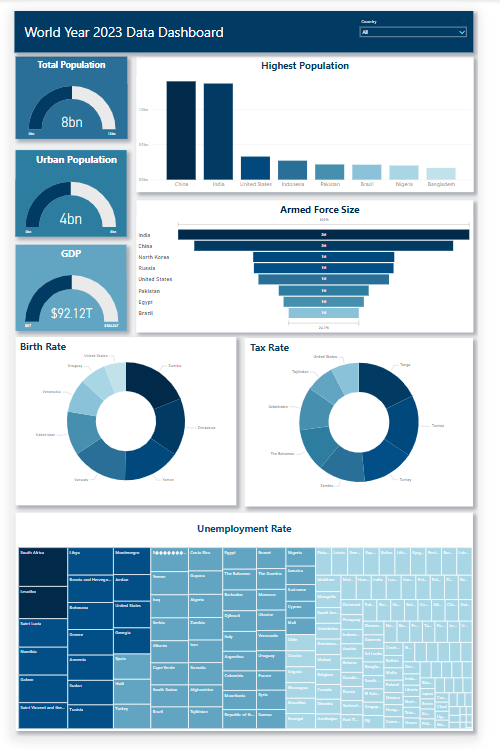

What the dashboard file says about the page in this screenshot:
{"tool":"powerbi","page":{"name":"Page 1","canvas":[1280,2000],"ordinal":0},"visuals":[{"type":"textbox","box":[342.9,125.7,924.3,371.4],"z":0},{"type":"pieChart","fields":{"Category":["world-data-2023.Country"],"Y":["Sum(world-data-2023.Birth Rate)"]},"box":[11.4,895.9,605,461],"z":0,"group":"g6"},{"type":"textbox","box":[11.4,1375,1253.6,598.6],"z":0,"group":"g8"},{"type":"donutChart","fields":{"Category":["world-data-2023.Country"],"Y":["Max(world-data-2023.Tax revenue (%))"]},"box":[640,895.7,625.7,461.4],"z":500,"group":"g7"},{"type":"shape","box":[10,0,1258,114],"z":1000,"group":"g5"},{"type":"clusteredColumnChart","fields":{"Y":["Sum(world-data-2023.Population)"],"Category":["world-data-2023.Country"]},"box":[342.9,178.6,922.9,318.6],"z":1000},{"type":"textbox","box":[342.5,517.5,923.8,360.5],"z":1000,"group":"g1"},{"type":"textbox","box":[11.2,126.2,306.2,225],"z":2000,"group":"g4"},{"type":"group","id":"g1","title":"Group 1","box":[342.5,517.5,923.8,361.2],"z":2000},{"type":"funnel","fields":{"Category":["world-data-2023.Country"],"Y":["Max(world-data-2023.Armed Forces size)"]},"box":[343.5,557.2,922.6,321.5],"z":2000,"group":"g1"},{"type":"treemap","fields":{"Group":["world-data-2023.Country"],"Values":["Sum(world-data-2023.Unemployment rate)"]},"box":[13.3,1466.7,1253.3,506.7],"z":2000,"group":"g8"},{"type":"group","id":"g2","title":"Group 2","box":[11.4,380.7,303.6,235.7],"z":3000},{"type":"textbox","box":[11.4,380.7,304.1,236.5],"z":3000,"group":"g2"},{"type":"group","id":"g3","title":"Group 3","box":[11.4,640.7,304.3,236.4],"z":4000},{"type":"textbox","box":[11.4,640.7,303.8,236.2],"z":4000,"group":"g3"},{"type":"group","id":"g4","title":"Group 4","box":[11.2,126.2,306.2,225],"z":5000},{"type":"group","id":"g5","title":"Group 5","box":[10,0,1258,114],"z":6000},{"type":"slicer","fields":{"Values":["world-data-2023.Country"]},"box":[949,15,311.9,83.2],"z":6000,"group":"g5"},{"type":"group","id":"g6","title":"Group 6","box":[11.4,497.9,1252,859],"z":7000},{"type":"textbox","title":"World Year 2023 Data Dashboard","box":[32.8,31.1,565.1,49.9],"z":8000,"group":"g5"},{"type":"group","id":"g7","title":"Group 7","box":[640,895.7,625.7,461.4],"z":8000},{"type":"gauge","fields":{"Y":["Sum(world-data-2023.Population)"]},"box":[13.6,201.4,303.3,149.8],"z":9000,"group":"g4"},{"type":"group","id":"g8","title":"Group 8","box":[11.4,1375,1255.2,598.6],"z":9000},{"type":"gauge","fields":{"Y":["Sum(world-data-2023.Urban_population)"]},"box":[12.9,460.7,302.5,155],"z":10000,"group":"g2"},{"type":"textbox","box":[602.4,497.9,661,398],"z":10001,"group":"g6"},{"type":"gauge","fields":{"Y":["Sum(world-data-2023.GDP)"]},"box":[13.8,718.7,301.2,158.3],"z":11000,"group":"g3"},{"type":"textbox","box":[17.4,895.6,152.9,48.6],"z":11500,"group":"g6"},{"type":"textbox","box":[650,895.7,132.9,54.3],"z":12001,"group":"g7"}]}

Visuals, with their boxes in screenshot pixels (x1, y1, x2, y2):
textbox: BBox(135, 54, 476, 192)
pieChart - world-data-2023.Country x Sum(world-data-2023.Birth Rate): BBox(12, 339, 236, 510)
textbox: BBox(12, 516, 476, 738)
donutChart - world-data-2023.Country x Max(world-data-2023.Tax revenue (%)): BBox(244, 339, 476, 510)
shape: BBox(12, 8, 477, 50)
clusteredColumnChart - Sum(world-data-2023.Population) x world-data-2023.Country: BBox(135, 74, 476, 192)
textbox: BBox(134, 199, 476, 333)
textbox: BBox(12, 54, 125, 138)
"Group 1" group: BBox(134, 199, 476, 333)
funnel - world-data-2023.Country x Max(world-data-2023.Armed Forces size): BBox(135, 214, 476, 333)
treemap - world-data-2023.Country x Sum(world-data-2023.Unemployment rate): BBox(13, 550, 476, 738)
"Group 2" group: BBox(12, 149, 124, 236)
textbox: BBox(12, 149, 124, 236)
"Group 3" group: BBox(12, 245, 125, 332)
textbox: BBox(12, 245, 124, 332)
"Group 4" group: BBox(12, 54, 125, 138)
"Group 5" group: BBox(12, 8, 477, 50)
slicer - world-data-2023.Country: BBox(359, 13, 474, 44)
"Group 6" group: BBox(12, 192, 475, 510)
"World Year 2023 Data Dashboard" textbox: BBox(20, 19, 229, 38)
"Group 7" group: BBox(244, 339, 476, 510)
gauge - Sum(world-data-2023.Population): BBox(13, 82, 125, 138)
"Group 8" group: BBox(12, 516, 476, 738)
gauge - Sum(world-data-2023.Urban_population): BBox(13, 178, 124, 236)
textbox: BBox(231, 192, 475, 339)
gauge - Sum(world-data-2023.GDP): BBox(13, 274, 124, 332)
textbox: BBox(14, 339, 71, 357)
textbox: BBox(248, 339, 297, 359)
